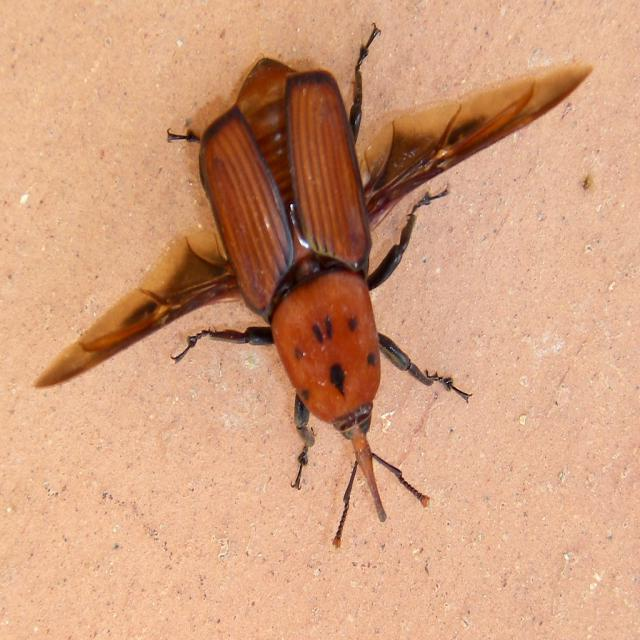Red-palm-weevil: (48, 58, 546, 551)
